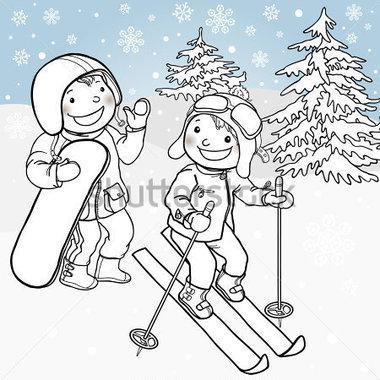person: (19, 47, 149, 286), (167, 89, 289, 334)
